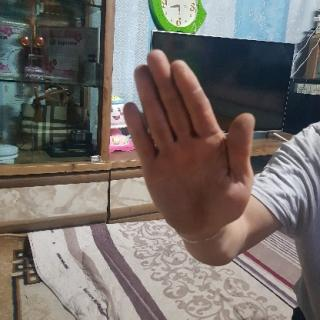SEEN: (119, 45, 258, 244)
